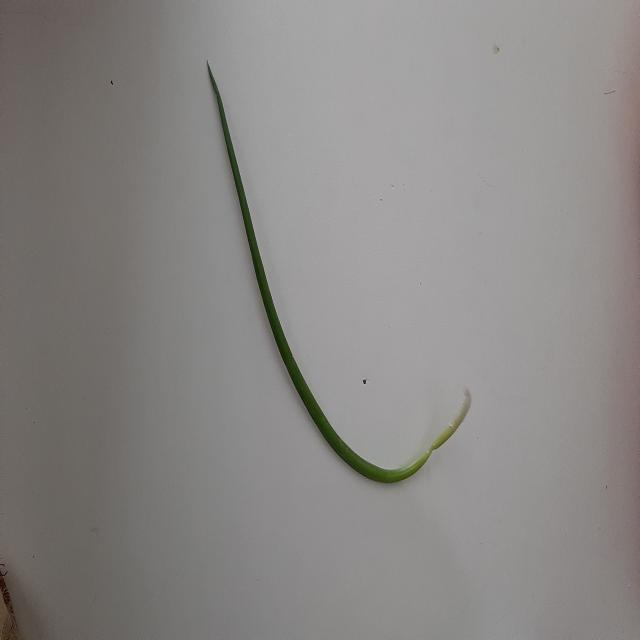onion: (208, 62, 471, 482)
